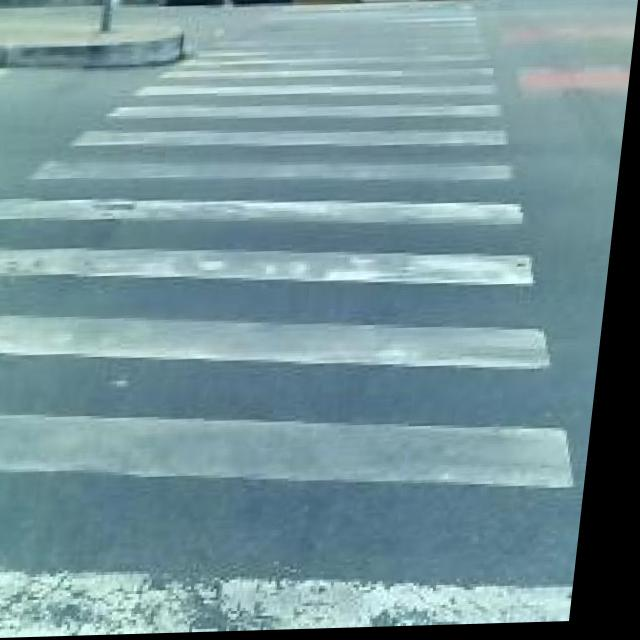zebra: (104, 63, 485, 636)
